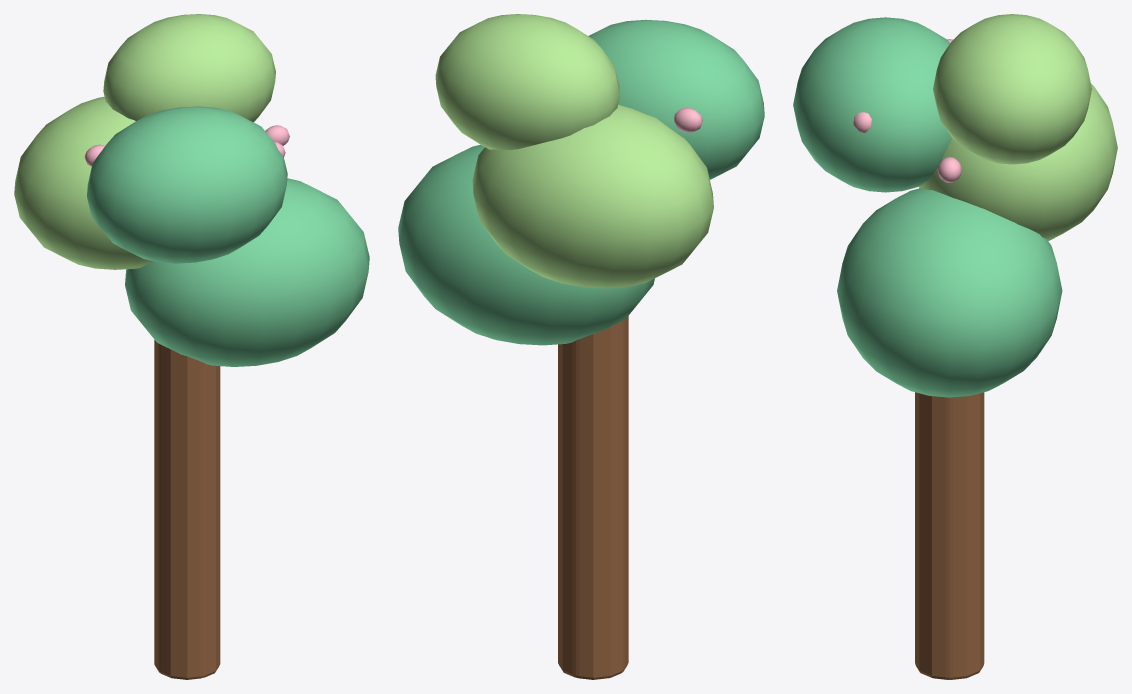
The model's file is SM_SolCity_Tree_01.fbx.
The picture shows the model from 3 angles, left to right: view 1: azimuth 30°, elevation 25°; view 2: azimuth 150°, elevation 25°; view 3: azimuth 270°, elevation 25°; orthographic projection. The views are drawn at different scales.
Parts seen in each view (by area): view 1: Tree_Crown_0, Tree_Crown_240, Tree_Trunk, Tree_Crown_58, Tree_Crown_120; view 2: Tree_Crown_120, Tree_Trunk, Tree_Crown_0, Tree_Crown_58, Tree_Crown_240, Tree_Flower_3; view 3: Tree_Crown_0, Tree_Crown_240, Tree_Trunk, Tree_Crown_58, Tree_Crown_120, Tree_Flower_0.
Boxes of the visible parts, bbox=[...] form: Tree_Crown_0: bbox=[125, 178, 369, 366]; Tree_Crown_240: bbox=[87, 106, 287, 263]; Tree_Trunk: bbox=[154, 340, 220, 679]; Tree_Crown_58: bbox=[103, 14, 275, 122]; Tree_Crown_120: bbox=[14, 96, 153, 269]; Tree_Crown_120: bbox=[472, 104, 713, 288]; Tree_Trunk: bbox=[558, 316, 628, 679]; Tree_Crown_0: bbox=[398, 144, 654, 345]; Tree_Crown_58: bbox=[435, 14, 619, 149]; Tree_Crown_240: bbox=[588, 19, 764, 179]; Tree_Flower_3: bbox=[674, 107, 702, 132]; Tree_Crown_0: bbox=[837, 188, 1062, 397]; Tree_Crown_240: bbox=[793, 17, 952, 192]; Tree_Trunk: bbox=[915, 392, 984, 679]; Tree_Crown_58: bbox=[933, 14, 1091, 164]; Tree_Crown_120: bbox=[919, 83, 1117, 240]; Tree_Flower_0: bbox=[937, 157, 961, 182].
Bounding box in the file's own units: 2.13 × 1.84 × 4.12.
